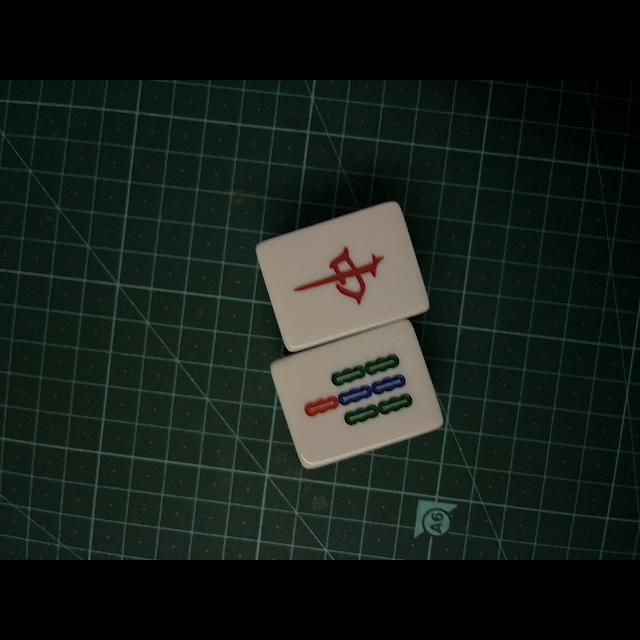b7: (289, 338, 425, 448)
dr: (274, 222, 412, 326)
